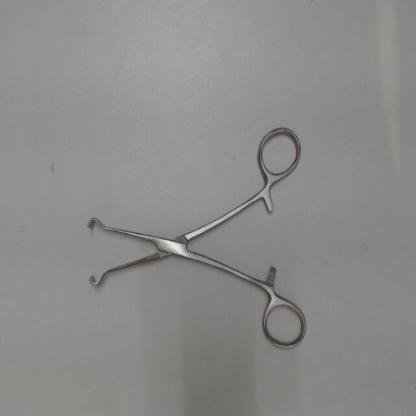Babcock Tissue Forceps: (80, 120, 309, 358)
